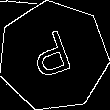P_S: (27, 26, 80, 86)
